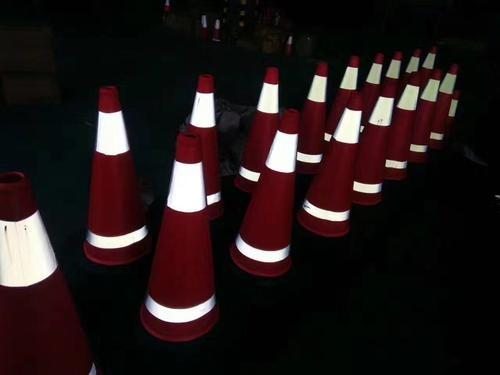cone_barrel: (134, 132, 217, 339), (70, 88, 150, 268), (229, 108, 300, 275), (296, 91, 362, 233), (164, 76, 222, 215), (232, 66, 280, 181), (354, 82, 394, 203), (296, 63, 333, 169), (385, 70, 421, 169), (410, 66, 440, 152), (328, 55, 360, 135), (429, 64, 456, 149), (359, 52, 384, 114), (208, 17, 221, 42)
